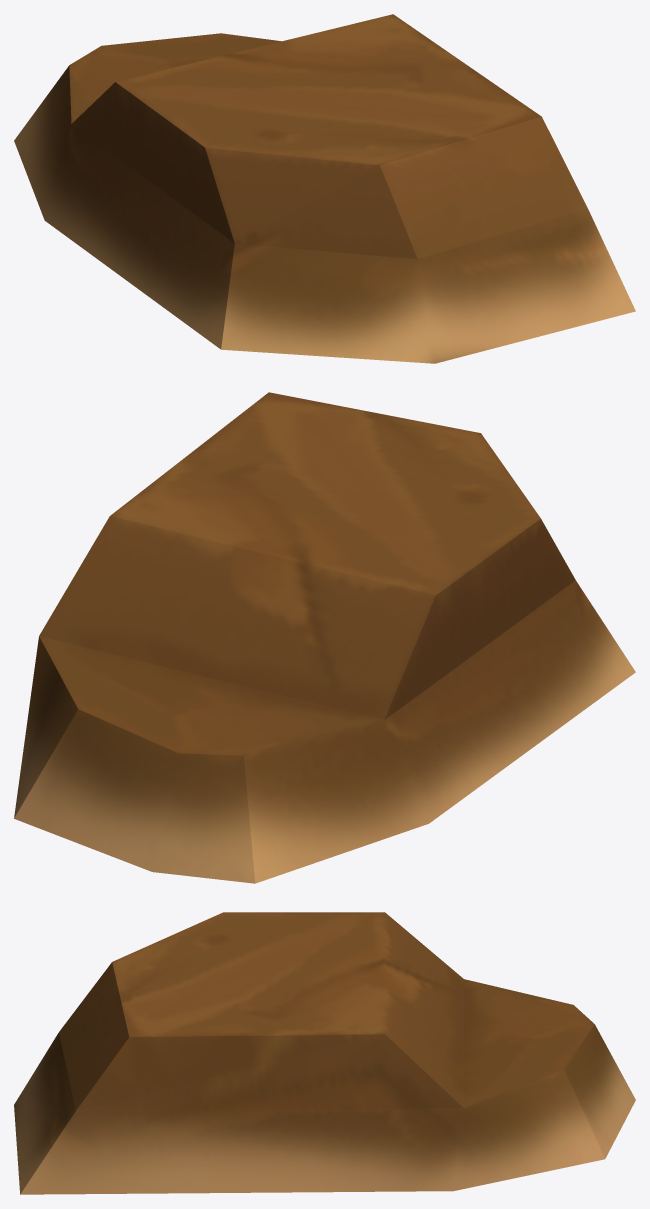
File: difuchangjing_shitou11.FBX
3 renders of one model, top to bottom at view 1: azimuth 30°, elevation 25°; view 2: azimuth 150°, elevation 25°; view 3: azimuth 270°, elevation 25°, orthographic. The views are drawn at different scales.
Visible parts, largest first — view 1: difuchangjing_shitou11; view 2: difuchangjing_shitou11; view 3: difuchangjing_shitou11.
Boxes of the visible parts, x1,y1,x2,y2 form: difuchangjing_shitou11: (14, 14, 635, 363); difuchangjing_shitou11: (14, 392, 635, 883); difuchangjing_shitou11: (14, 912, 635, 1194).
Size of the model in its own units: 58.16 by 25.16 by 99.34.
